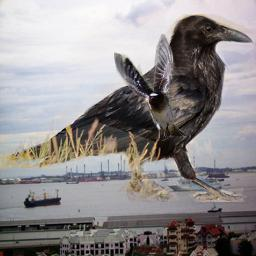Crow: (2, 14, 254, 202)
Swallow: (114, 34, 187, 141)
